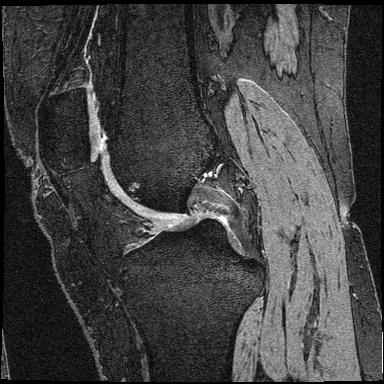SagKneeJointArea: (37, 87, 267, 305)
